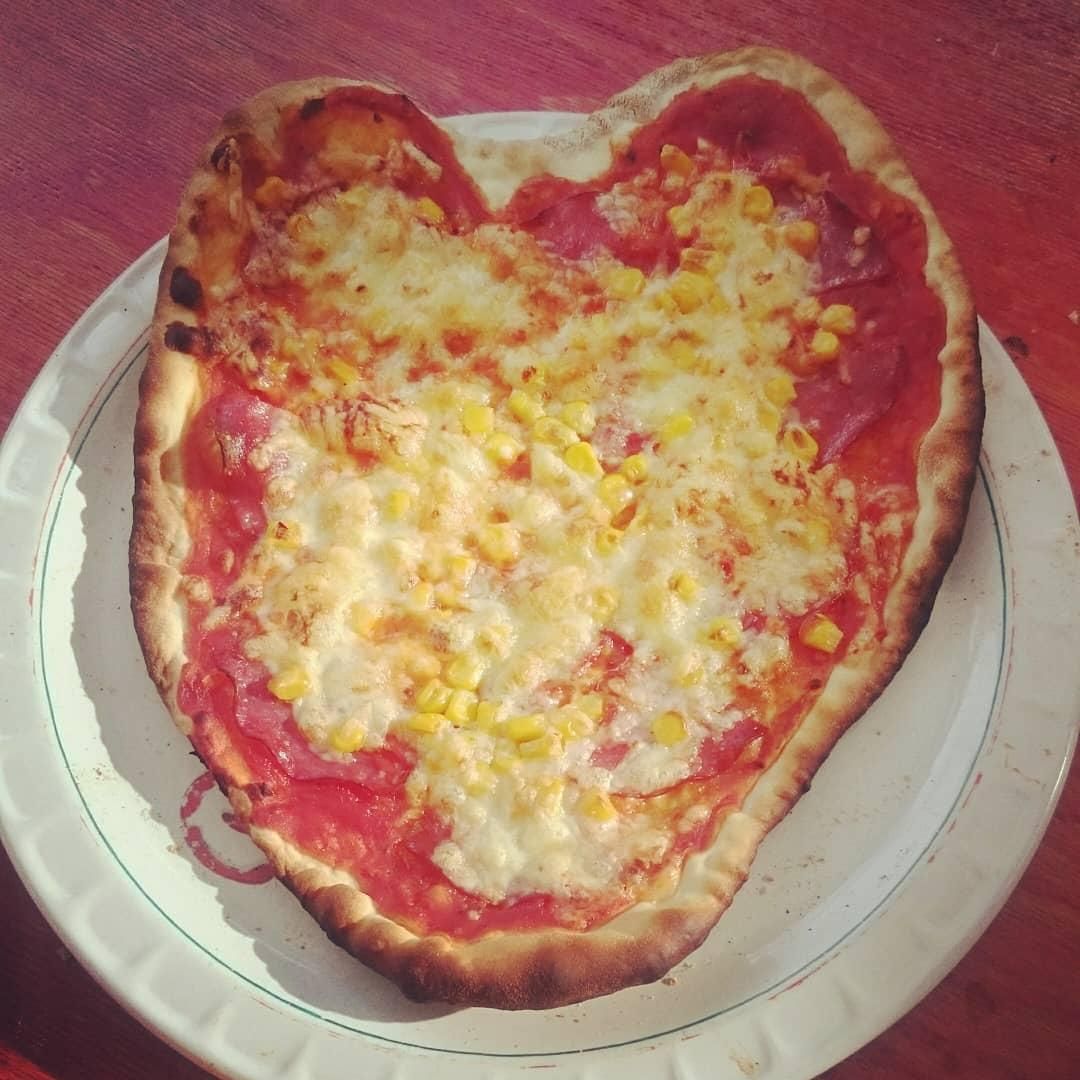Corn: (506, 388, 646, 503), (415, 678, 557, 762), (415, 555, 472, 608), (816, 307, 856, 356), (651, 711, 688, 748), (271, 666, 311, 700), (330, 718, 367, 753), (608, 265, 645, 298), (787, 219, 819, 257), (745, 186, 772, 219)
Pizza: (143, 85, 973, 1005)
